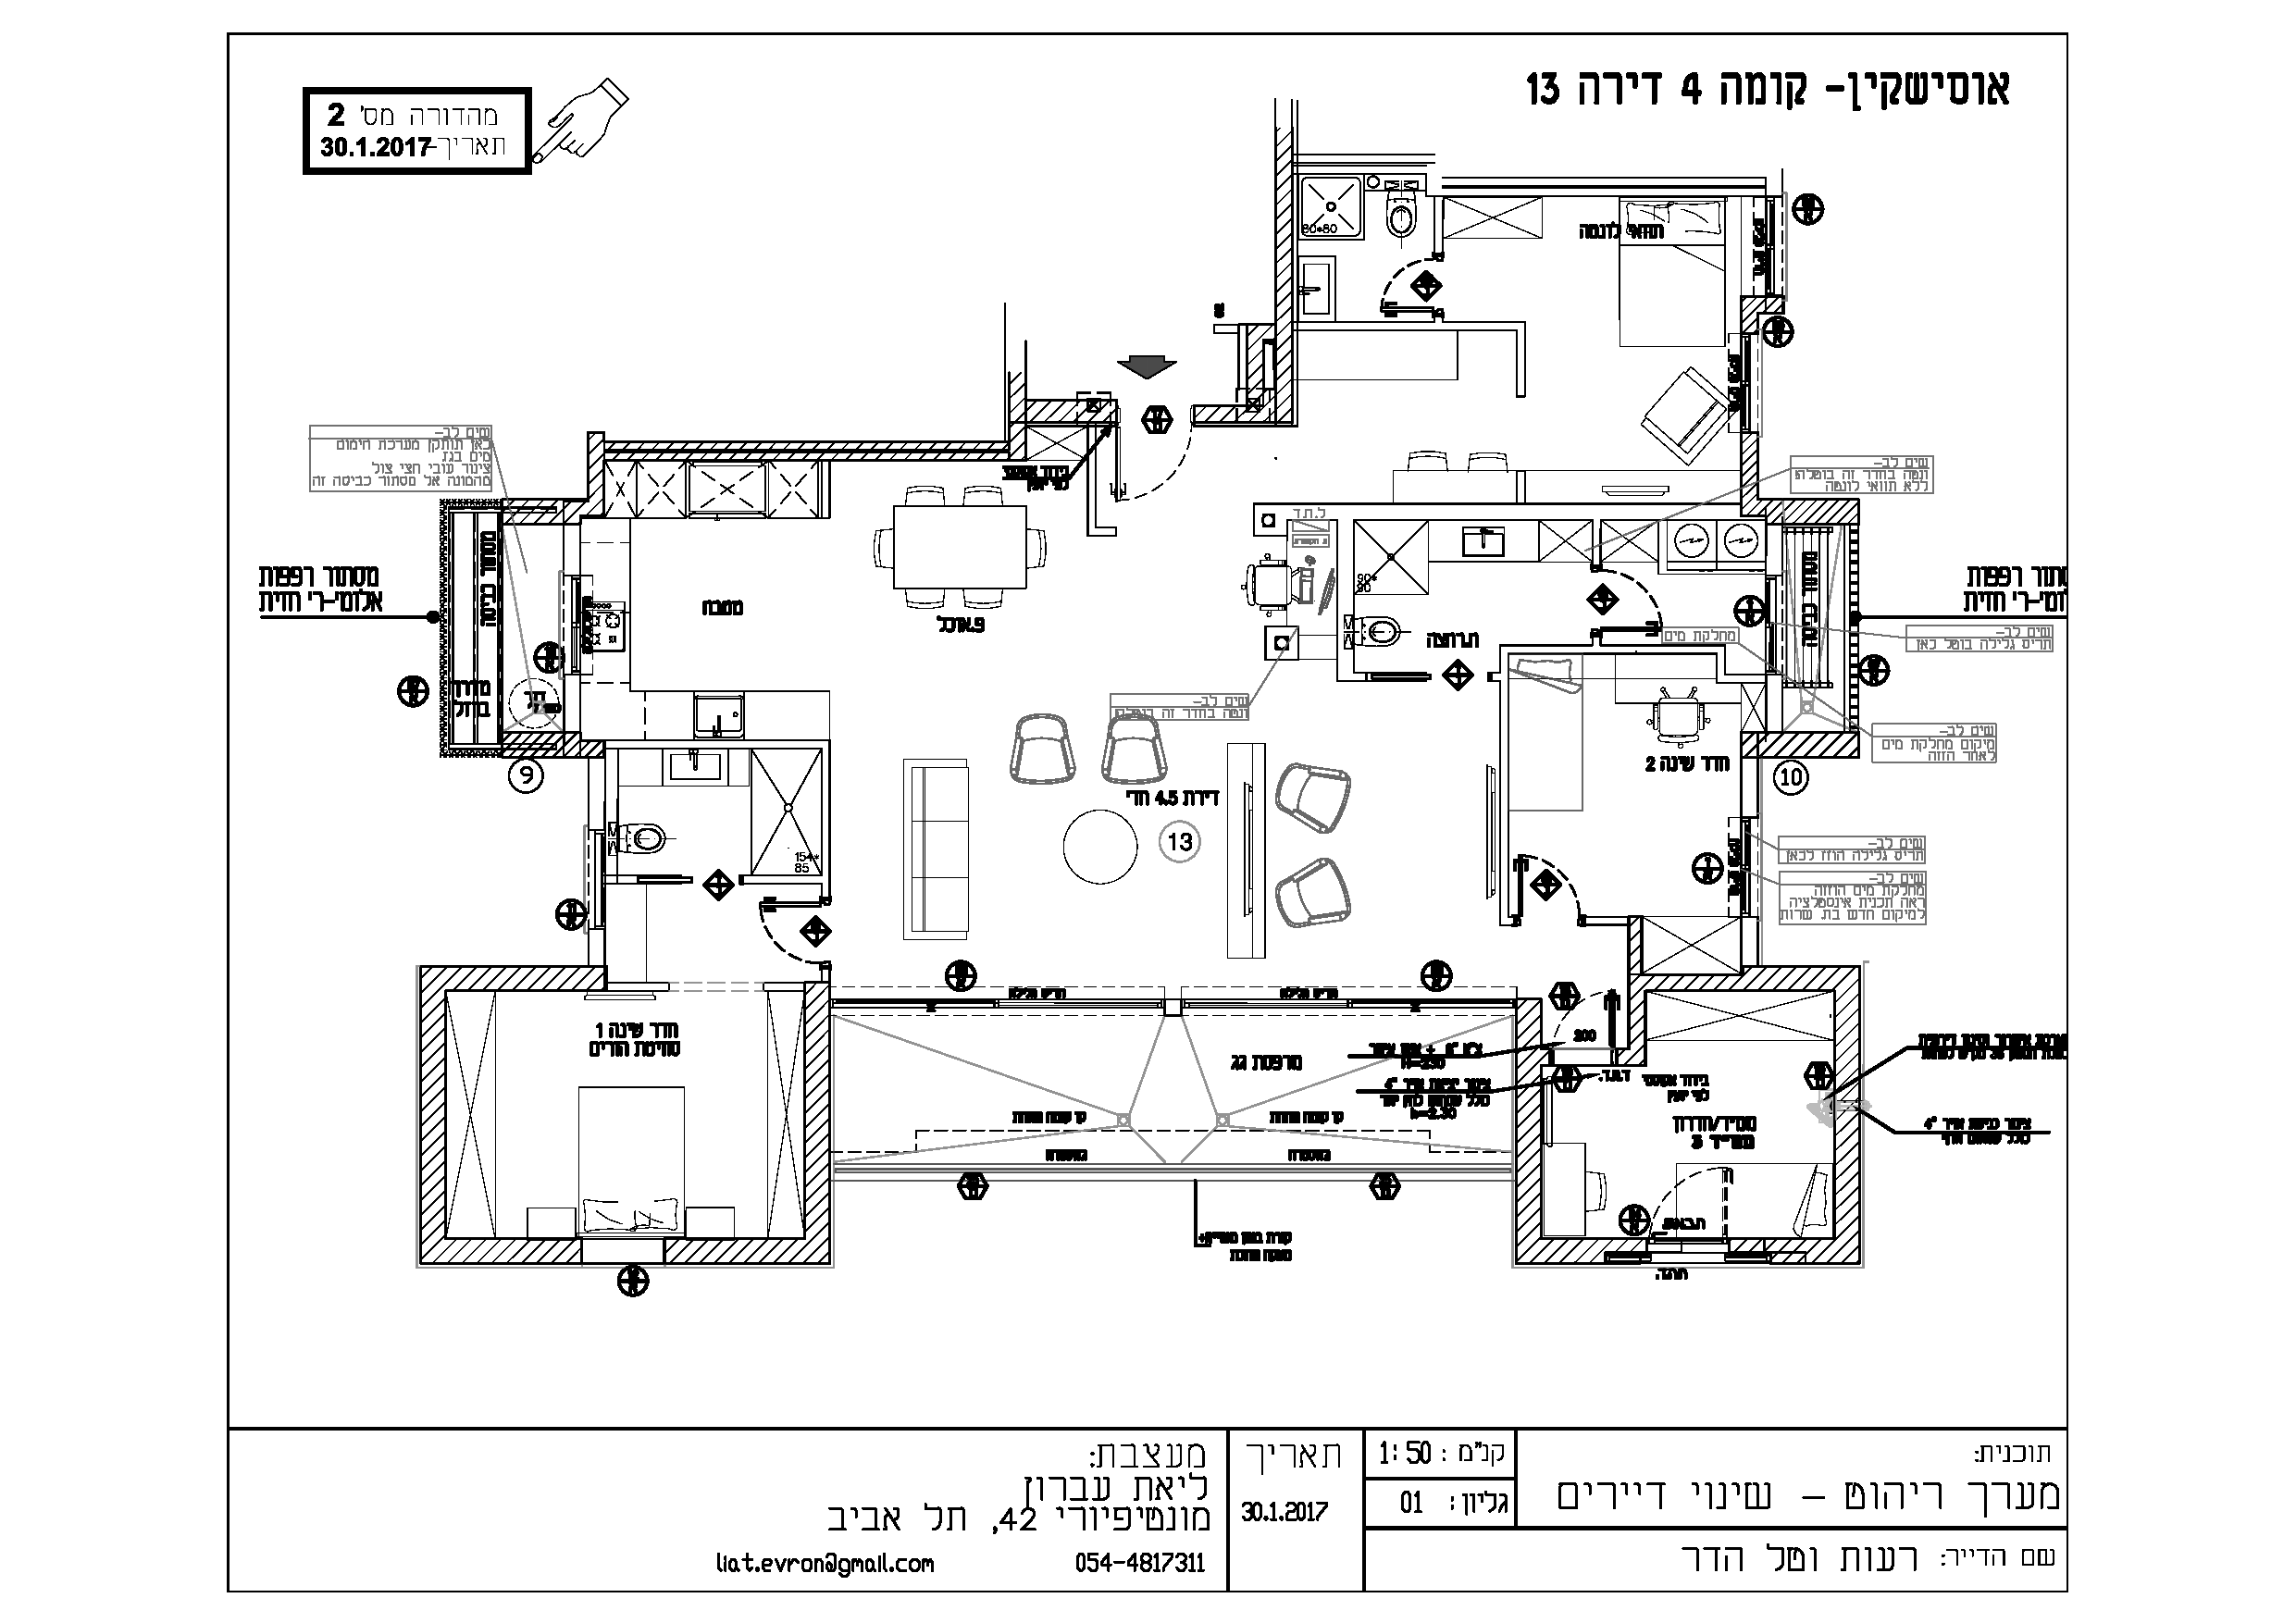door: (1107, 399, 1200, 504), (1500, 847, 1593, 926)
wall: (1827, 968, 1860, 1270), (420, 998, 444, 1259), (805, 989, 827, 1266), (1379, 242, 1453, 323), (762, 892, 834, 973), (1590, 560, 1662, 641), (420, 968, 604, 985)
window: (583, 820, 615, 934), (1737, 327, 1767, 441), (1730, 810, 1760, 924)
